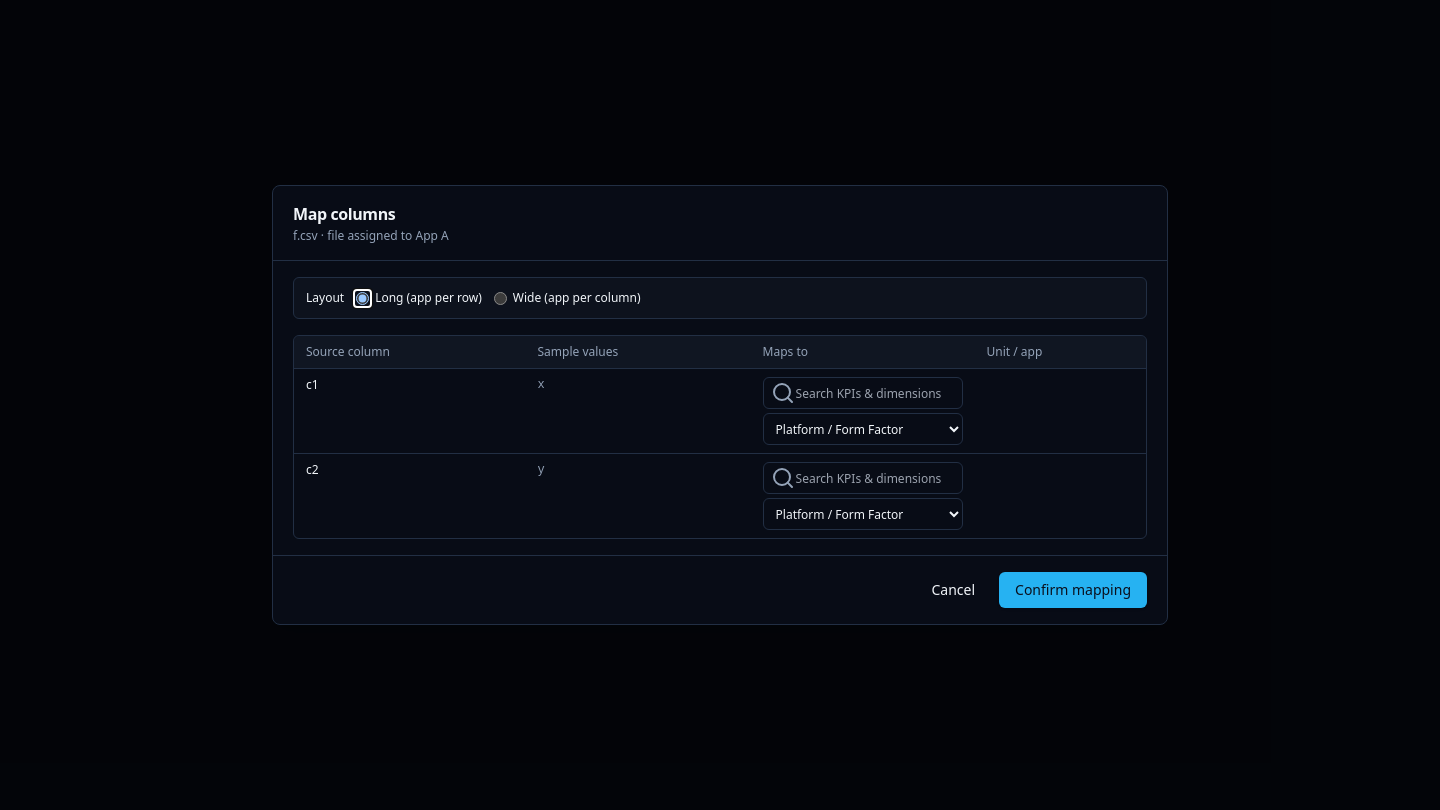
ColumnMappingModal › blocks confirmation and shows a message when no KPI is mapped (Req 7.8)
The image size is (1440, 810).
Click the button "Confirm mapping".
click(1073, 590)  # box [999,572,1147,608]
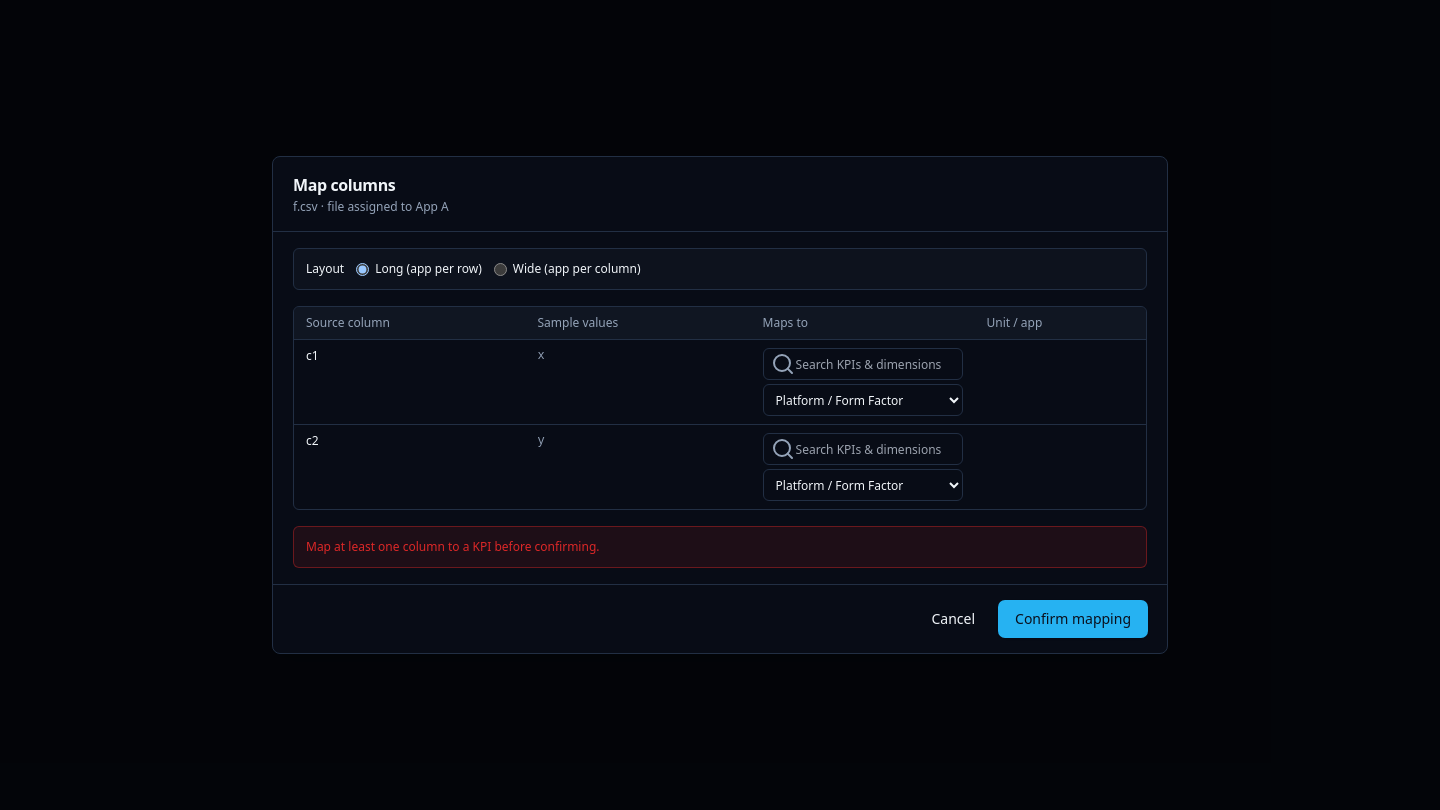
Now the message shows "at least one column to a KPI", box [306,538,600,555]
